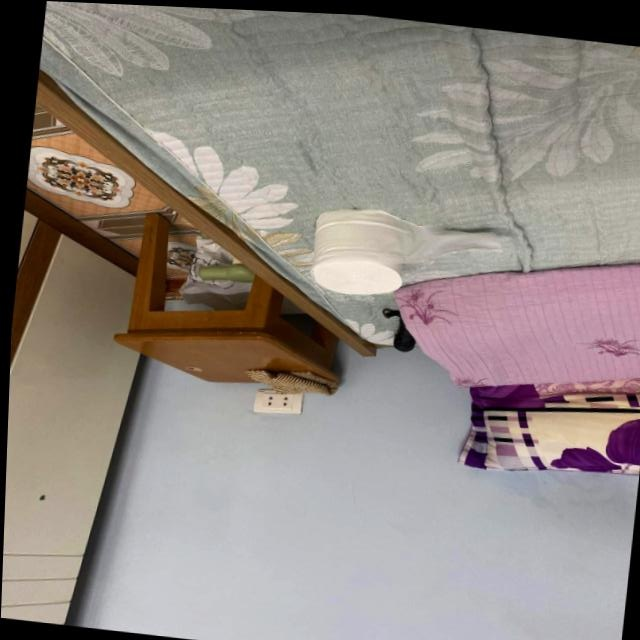outlet: (251, 387, 304, 419)
